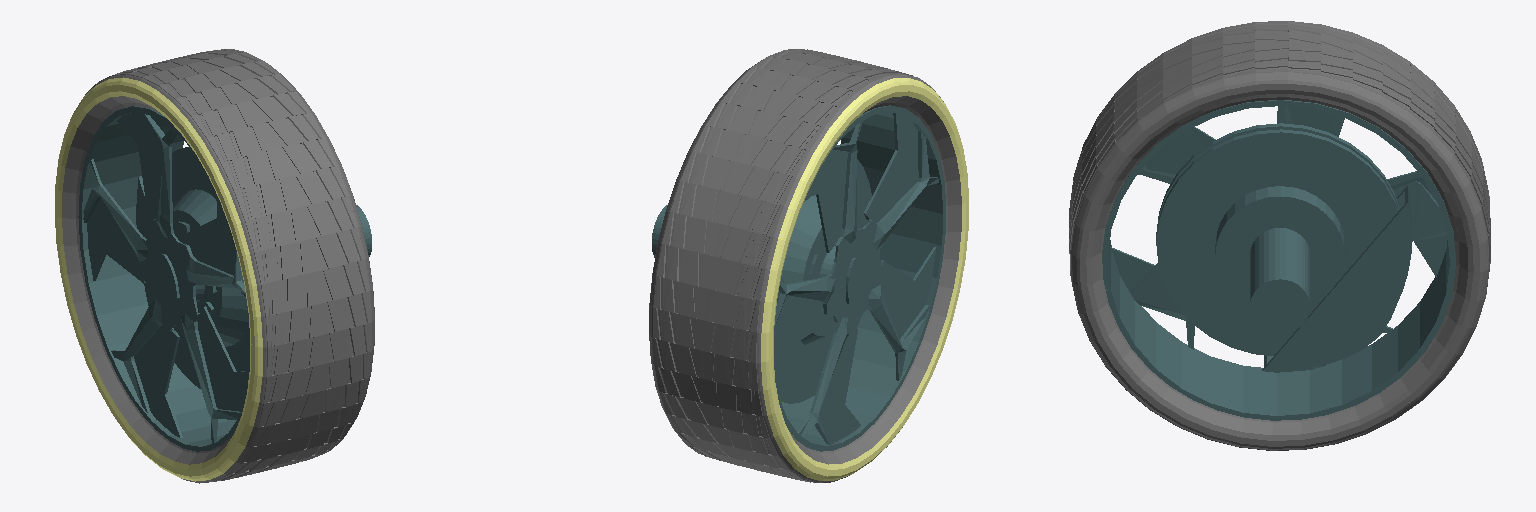
The model's file is lambo_altvr-tire_front_right.obj.
3 views of the same model, side by side, from view 1: azimuth 30°, elevation 25°; view 2: azimuth 150°, elevation 25°; view 3: azimuth 270°, elevation 25° (orthographic).
Parts seen in each view (by area): view 1: lambo_altvr-tire_front_right.obj; view 2: lambo_altvr-tire_front_right.obj; view 3: lambo_altvr-tire_front_right.obj.
Part boxes in pixels (bbox=[...]): lambo_altvr-tire_front_right.obj: bbox=[55, 49, 374, 483]; lambo_altvr-tire_front_right.obj: bbox=[649, 49, 968, 482]; lambo_altvr-tire_front_right.obj: bbox=[1069, 21, 1490, 450].
Size of the model in its own units: 0.5124 by 0.9241 by 0.9241.